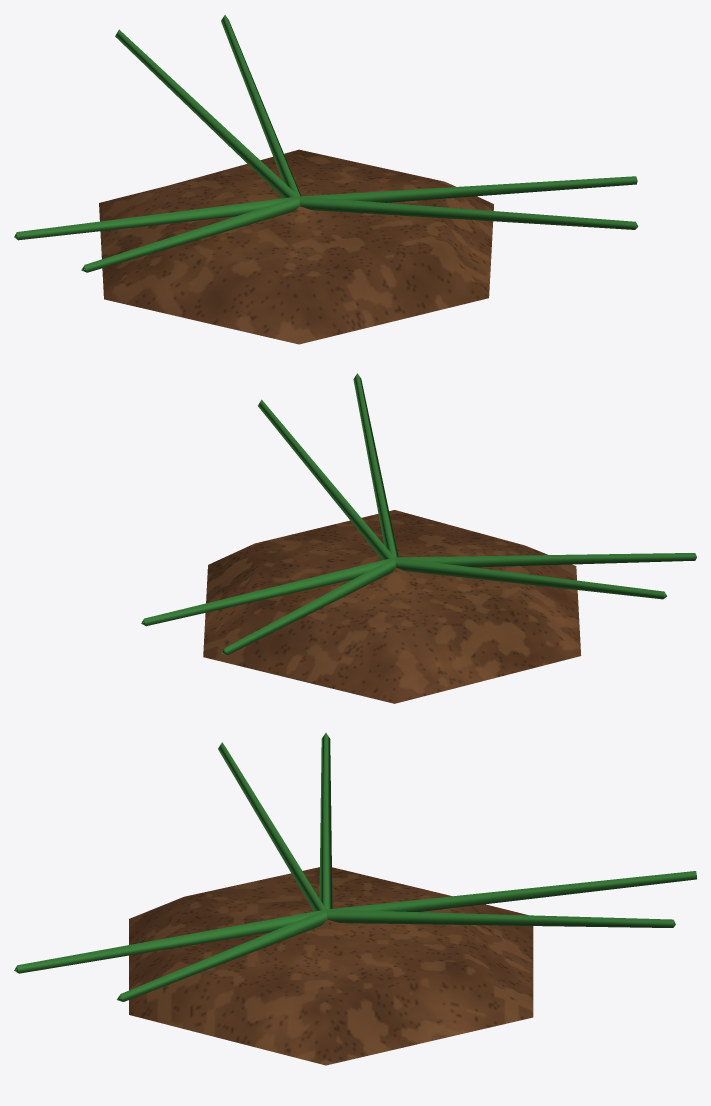
Rendered from plant-watermelon-4-far.glb.
3 views of the same model, one above another, from view 1: azimuth 30°, elevation 25°; view 2: azimuth 150°, elevation 25°; view 3: azimuth 270°, elevation 25° (orthographic). The views are drawn at different scales.
Parts seen in each view (by area): view 1: plant-watermelon-4-far; view 2: plant-watermelon-4-far; view 3: plant-watermelon-4-far.
Part boxes in pixels (<box>): plant-watermelon-4-far: <box>14,15,638,344</box>; plant-watermelon-4-far: <box>141,373,696,703</box>; plant-watermelon-4-far: <box>14,733,696,1065</box>.
Bounding box in the file's own units: 1.47 × 0.1919 × 1.23.
Materials: 3 (1 with a texture image).
